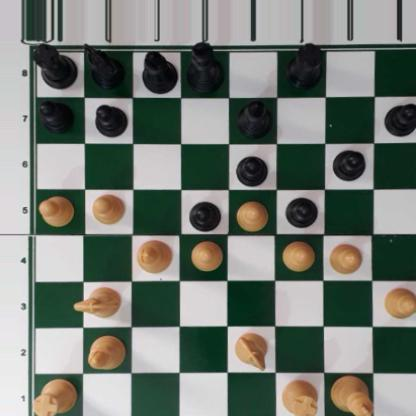black-bishop: (140, 48, 177, 94), (238, 98, 271, 138)
black-king: (185, 40, 224, 92)
black-knight: (86, 41, 124, 90)
black-pawn: (36, 98, 72, 131), (94, 102, 127, 136), (384, 102, 416, 137), (285, 195, 318, 228), (332, 147, 365, 180), (234, 153, 268, 185), (187, 199, 221, 230)
black-rook: (30, 40, 77, 88), (283, 42, 324, 89)
white-bishop: (86, 332, 124, 372), (136, 238, 170, 273)
white-king: (330, 373, 372, 416)
white-knight: (73, 287, 122, 319), (233, 330, 269, 371)
white-pawn: (382, 286, 416, 320), (327, 241, 361, 274), (38, 195, 74, 226), (280, 239, 314, 271), (90, 192, 124, 224), (232, 200, 268, 230), (189, 238, 222, 270)
white-rook: (30, 376, 76, 416), (281, 379, 318, 416)
